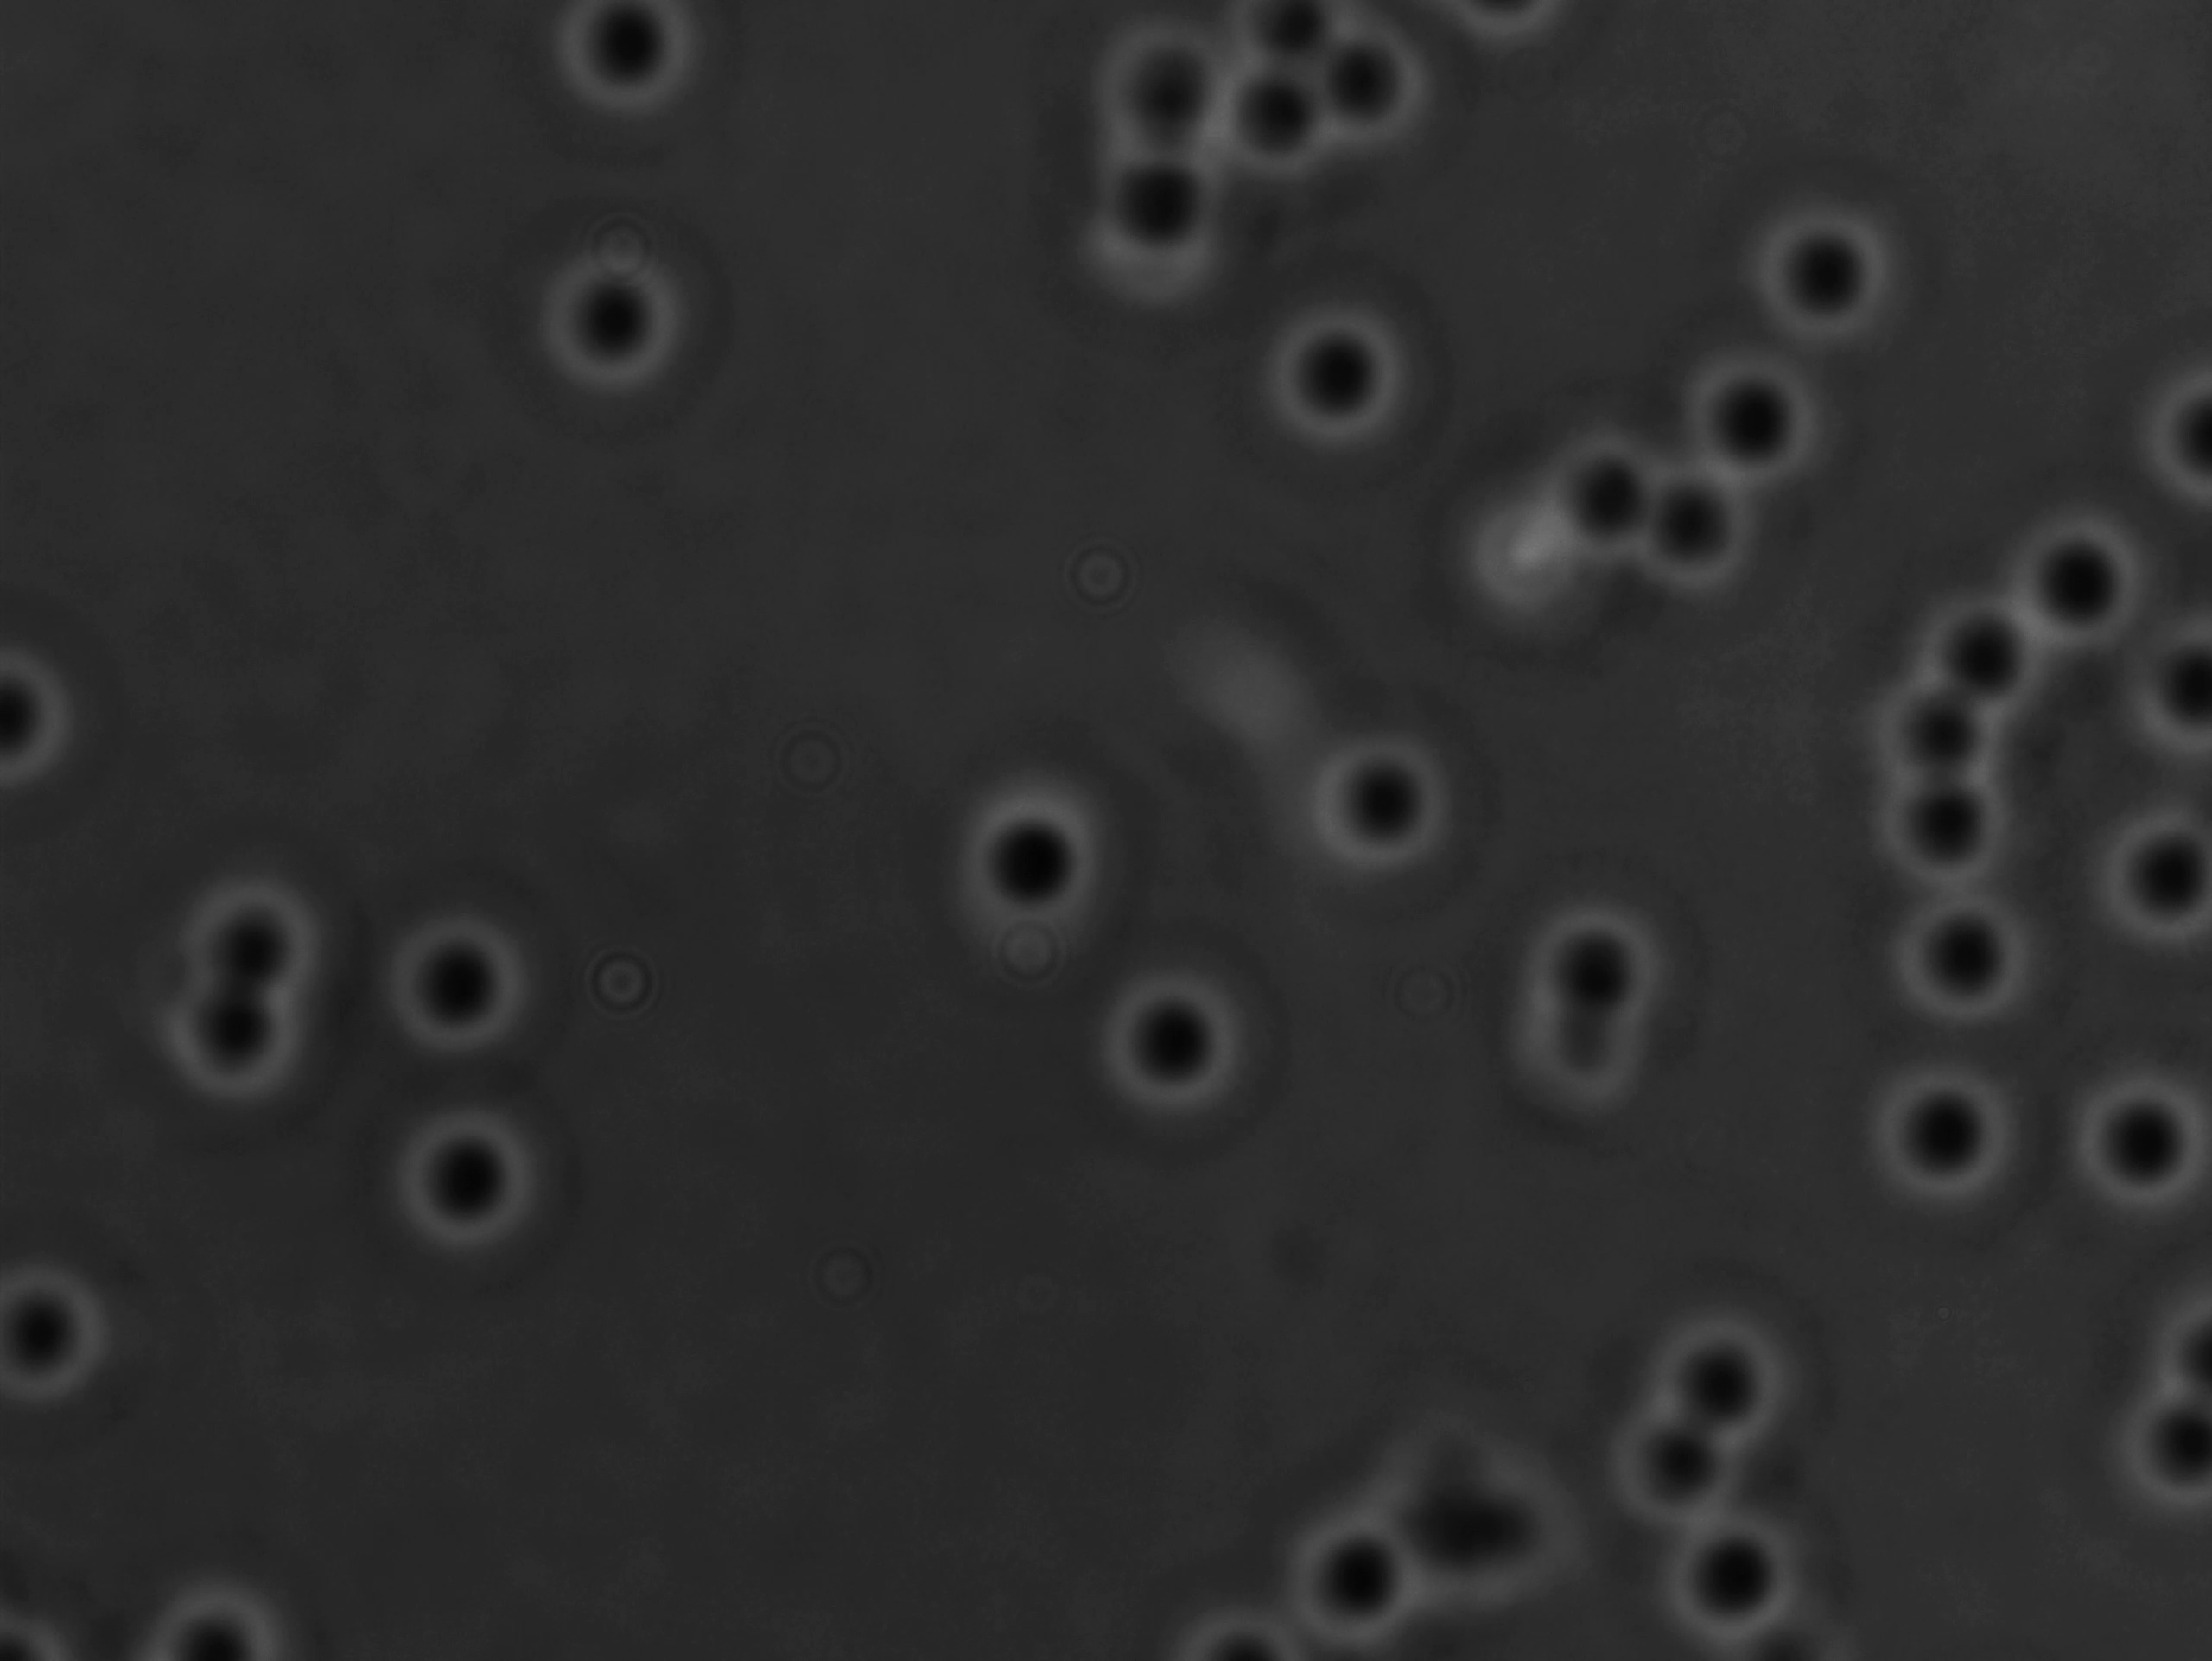depth:-80: (1614, 1279, 1844, 1480), (1832, 1035, 2036, 1251), (356, 883, 563, 1075), (384, 1068, 584, 1261), (1978, 482, 2174, 673), (942, 759, 1137, 947), (1649, 325, 1844, 513), (1244, 276, 1430, 466), (1286, 717, 1467, 909), (2048, 1033, 2212, 1244), (1076, 947, 1266, 1125), (515, 229, 707, 405), (1713, 187, 1910, 354)
